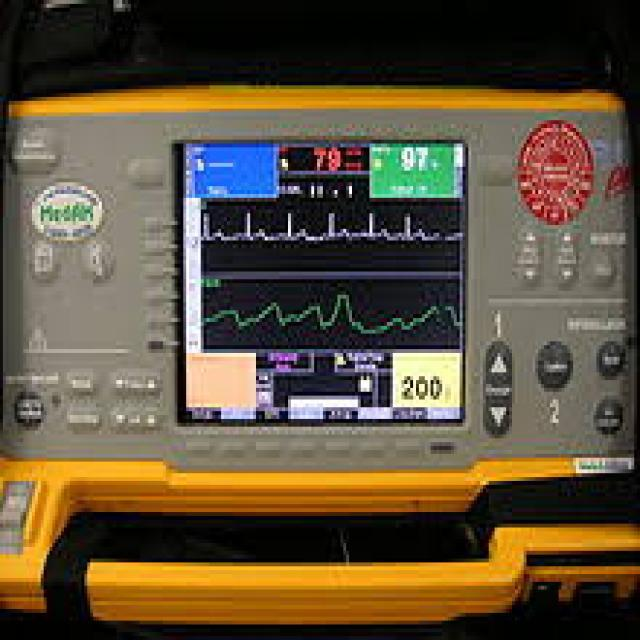cardiac_monitor: (27, 44, 636, 544)
